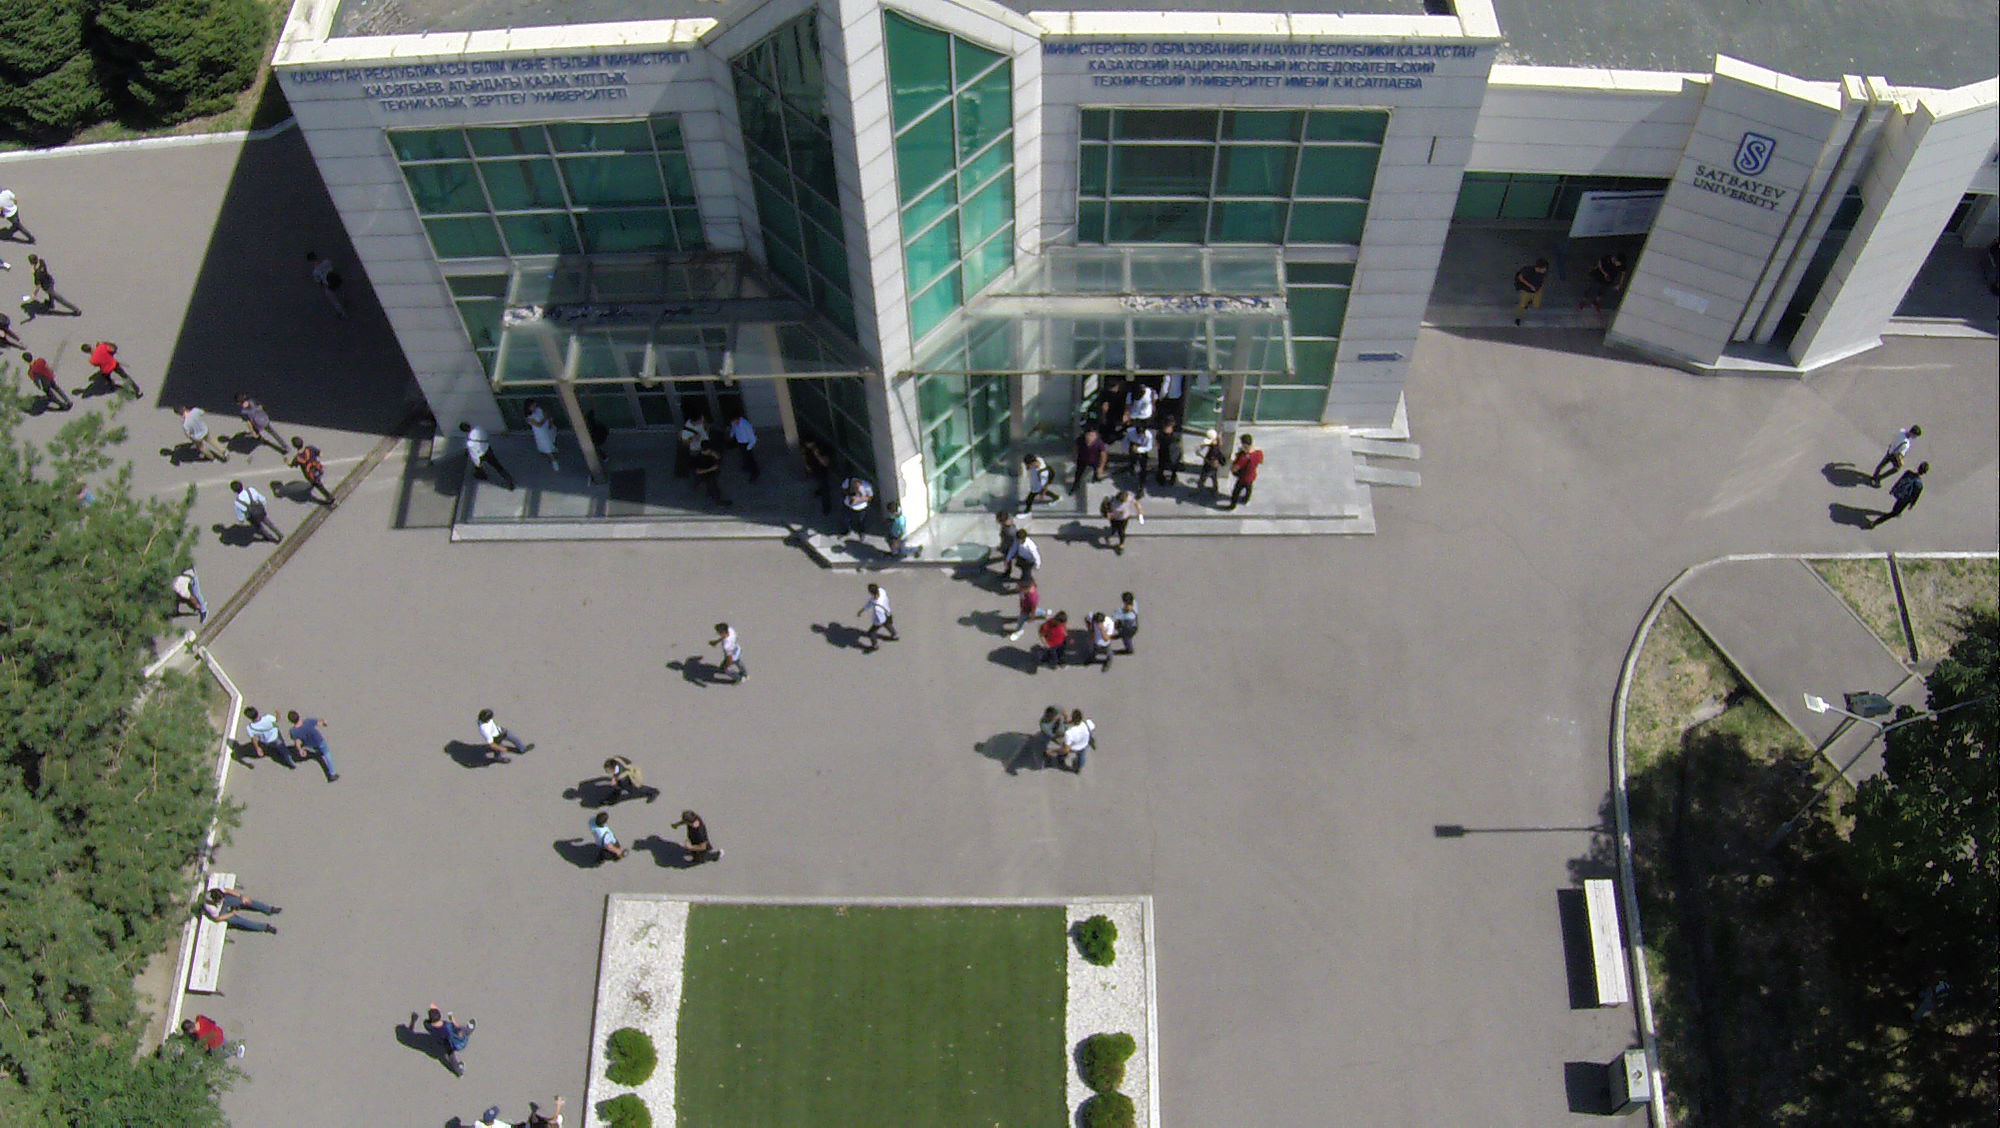person: (203, 879, 288, 941), (1874, 458, 1932, 536), (426, 1001, 481, 1083), (22, 249, 79, 321), (180, 1001, 245, 1066), (475, 702, 535, 772), (81, 339, 140, 406), (463, 412, 510, 493), (291, 704, 336, 784), (665, 810, 728, 869), (599, 750, 665, 805), (1581, 247, 1634, 315), (1868, 419, 1922, 486), (291, 434, 336, 507), (165, 549, 207, 625), (1510, 257, 1553, 328), (20, 349, 68, 414), (231, 480, 278, 544), (177, 399, 222, 464), (1230, 432, 1268, 508), (240, 710, 286, 771), (1095, 484, 1135, 553), (303, 253, 345, 318), (237, 394, 283, 451), (530, 398, 567, 467), (840, 476, 876, 540), (581, 809, 625, 861), (1072, 425, 1106, 491), (729, 411, 762, 478), (861, 583, 891, 656), (696, 441, 729, 507), (1066, 700, 1092, 779), (711, 616, 742, 684), (1081, 610, 1113, 672), (1021, 453, 1053, 512), (1198, 433, 1227, 497), (1041, 609, 1071, 666), (887, 503, 919, 558), (1037, 707, 1066, 766), (1008, 529, 1040, 583), (1118, 594, 1146, 651), (803, 437, 825, 501), (1127, 416, 1146, 486), (1009, 581, 1033, 637), (679, 409, 704, 456), (1161, 416, 1177, 487), (997, 515, 1013, 560)
